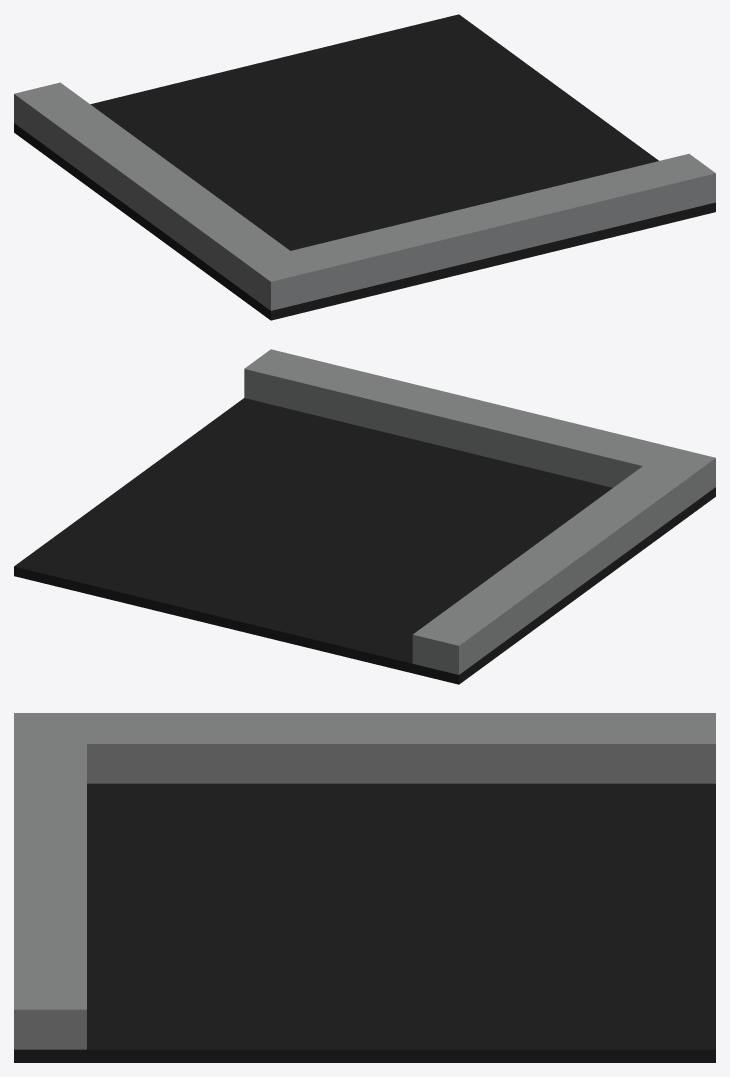
The model's file is upperleftcorner.gltf.
The picture shows the model from 3 angles, top to bottom: view 1: azimuth 30°, elevation 25°; view 2: azimuth 150°, elevation 25°; view 3: azimuth 270°, elevation 25°; orthographic projection. The views are drawn at different scales.
Parts seen in each view (by area): view 1: RoadPlane, gutter (×2); view 2: RoadPlane, gutter (×2); view 3: RoadPlane, gutter (×2).
Boxes of the visible parts, left/top/right/bottom form: RoadPlane: left=14, top=14, right=715, bottom=320; gutter (×2): left=14, top=82, right=715, bottom=310; RoadPlane: left=14, top=398, right=715, bottom=684; gutter (×2): left=244, top=349, right=715, bottom=674; RoadPlane: left=14, top=783, right=715, bottom=1062; gutter (×2): left=14, top=713, right=715, bottom=1049.
Bounding box in the file's own units: 3 × 0.25 × 3.
Materials: 1 (1 with a texture image).
